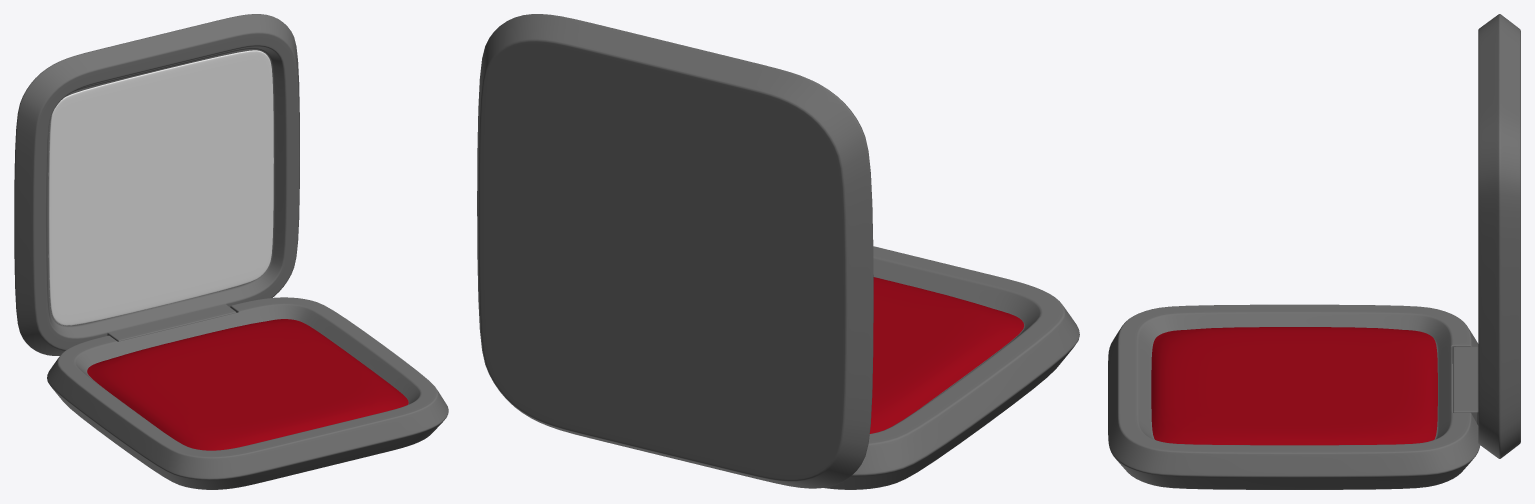
File: mirror_v3.glb
3 renders of one model, left to right at view 1: azimuth 30°, elevation 25°; view 2: azimuth 150°, elevation 25°; view 3: azimuth 270°, elevation 25°, orthographic. The views are drawn at different scales.
Parts seen in each view (by area): view 1: lid, Plane.008, pouder; view 2: lid, pouder; view 3: lid, pouder.
Boxes of the visible parts, x1,y1,x2,y2 form: lid: (14, 14, 448, 489); Plane.008: (48, 50, 273, 325); pouder: (87, 319, 408, 450); lid: (477, 14, 1079, 489); pouder: (869, 277, 1023, 433); lid: (1108, 14, 1520, 489); pouder: (1151, 327, 1437, 445).
Bounding box in the file's own units: 0.0763 × 0.0791 × 0.0846.
